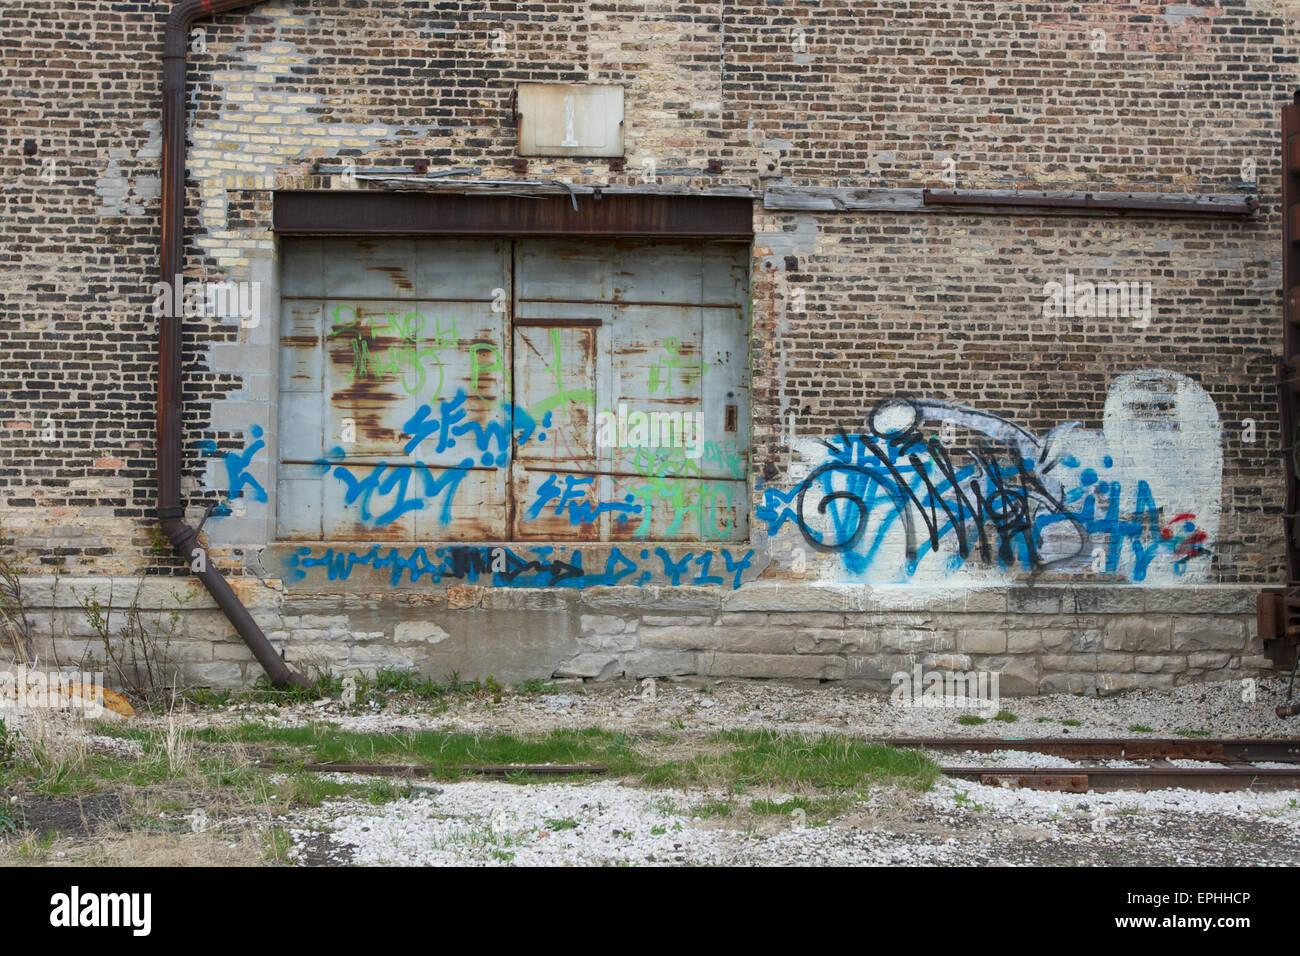graffiti: (759, 377, 1215, 586), (315, 398, 647, 545), (274, 543, 767, 602), (641, 419, 744, 543), (193, 430, 272, 515)
